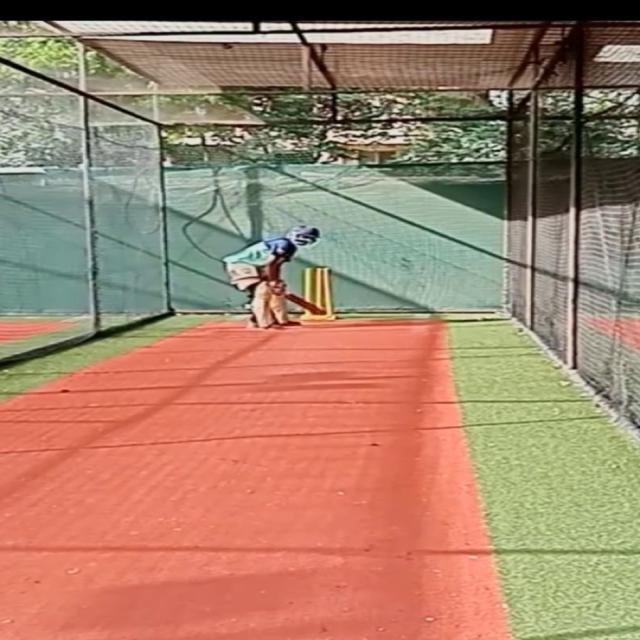stump: (300, 266, 338, 322)
